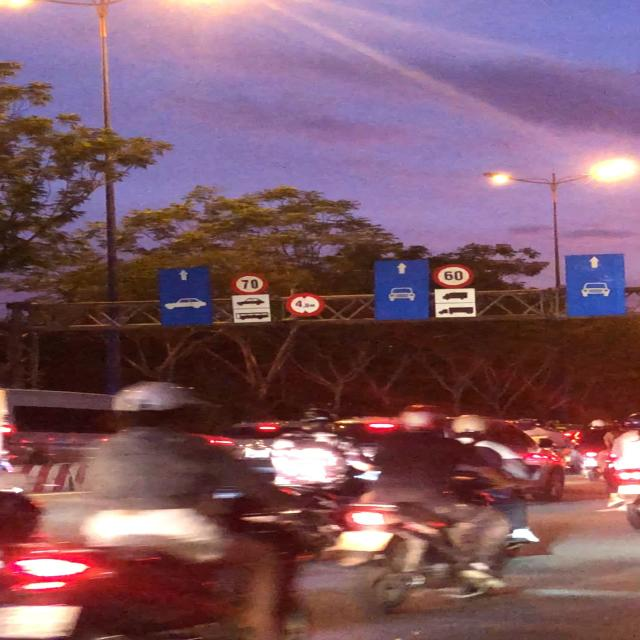Bien bao han che chieu cao: (284, 292, 326, 319)
Bien bao toc do toi da cho phep: (427, 260, 480, 292), (226, 270, 271, 297)
